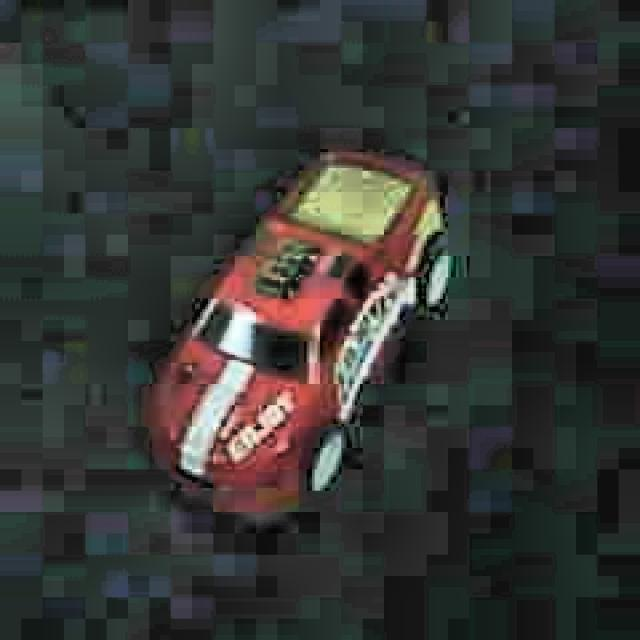car: (141, 135, 460, 527)
